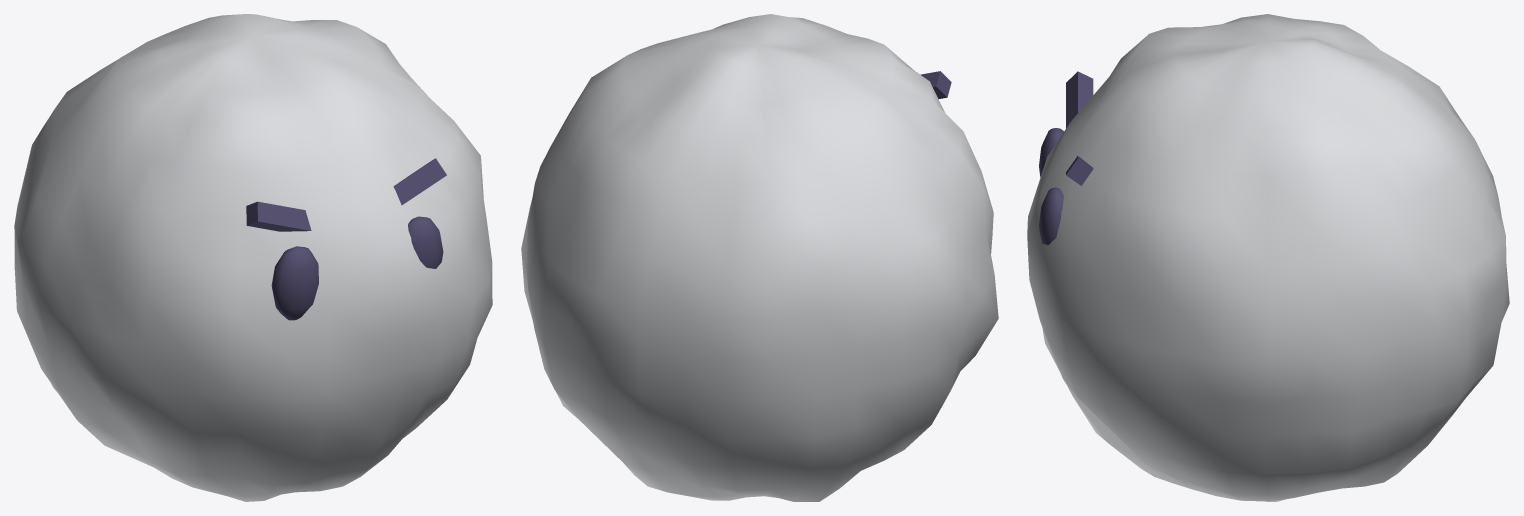
Rendered from snowball.fbx.
3 views of the same model, side by side, from view 1: azimuth 30°, elevation 25°; view 2: azimuth 150°, elevation 25°; view 3: azimuth 270°, elevation 25° (orthographic).
Parts seen in each view (by area): view 1: Snowball; view 2: Snowball; view 3: Snowball.
Boxes of the visible parts, <box> form: Snowball: <box>14,14,492,501</box>; Snowball: <box>521,14,998,501</box>; Snowball: <box>1027,14,1509,501</box>.
Size of the model in its own units: 0.5706 by 0.5684 by 0.5603.
